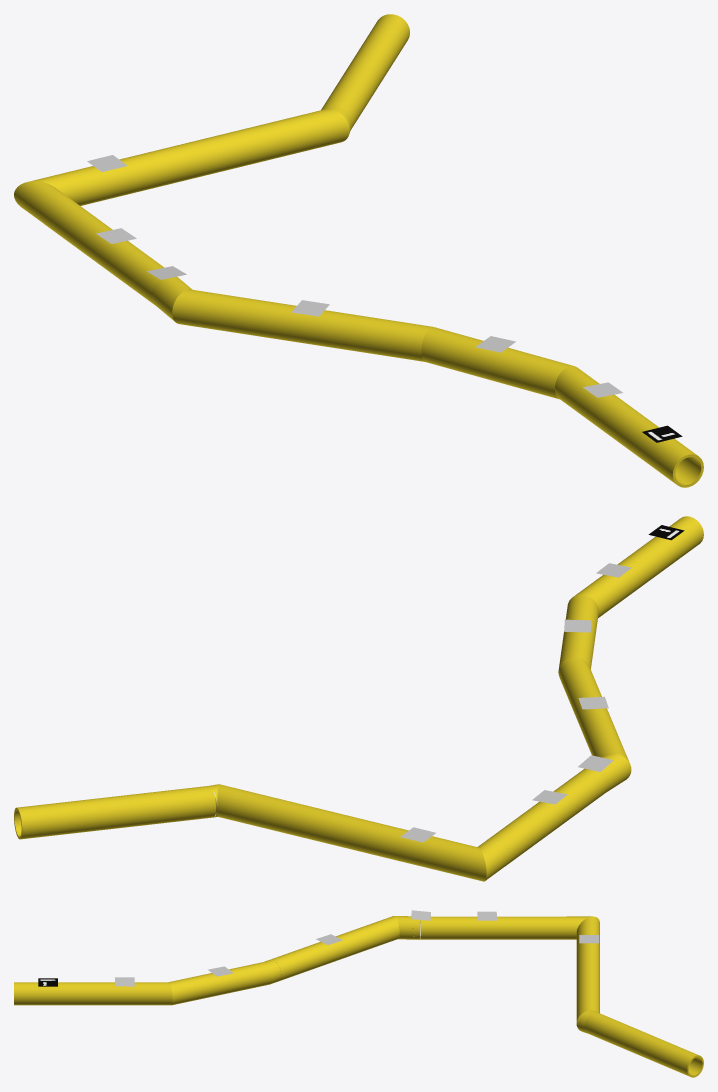
File: tac_pipe_with_markers.dae
3 renders of one model, top to bottom at view 1: azimuth 30°, elevation 25°; view 2: azimuth 150°, elevation 25°; view 3: azimuth 270°, elevation 25°, orthographic. The views are drawn at different scales.
Parts seen in each view (by area): view 1: tac_pipe; view 2: tac_pipe; view 3: tac_pipe.
Part boxes in pixels (<box>): tac_pipe: <box>14,14,703,487</box>; tac_pipe: <box>14,516,703,881</box>; tac_pipe: <box>14,916,703,1077</box>.
Size of the model in its own units: 35.82 by 70.81 by 2.73.
